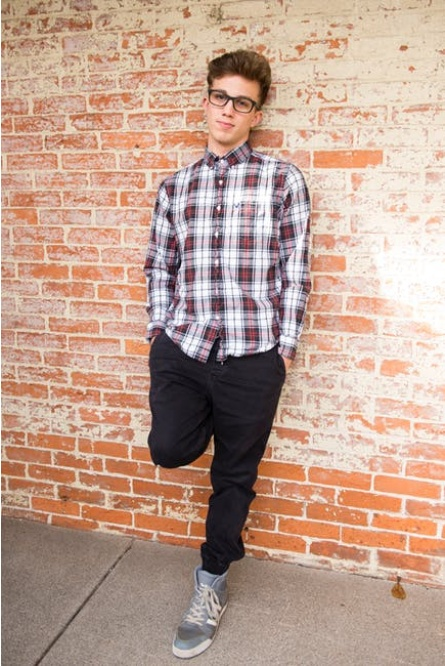face: (207, 76, 257, 144)
